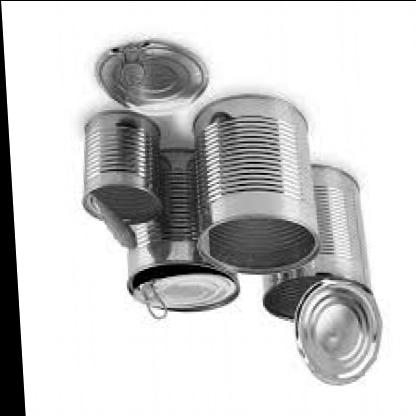Metal: (43, 30, 398, 394)
